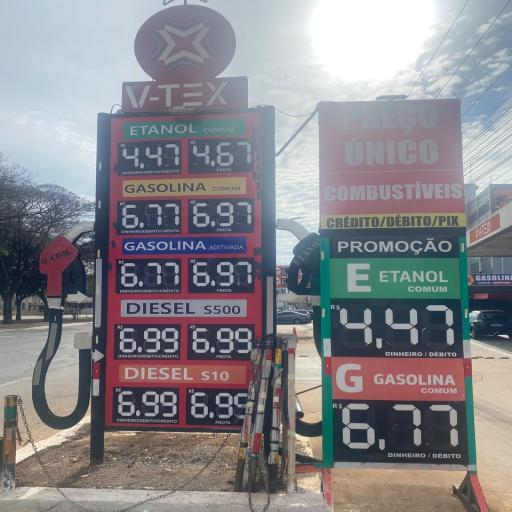GASOLINA AD: (122, 234, 249, 258)
S10: (113, 362, 238, 385)
S500: (119, 300, 258, 317)
placa: (102, 109, 266, 431)
preco: (111, 326, 183, 359), (114, 387, 179, 423), (118, 259, 184, 293)
